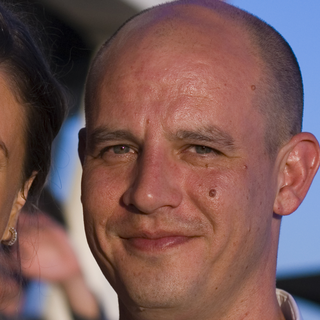eye: (179, 139, 227, 163), (97, 140, 141, 162)
